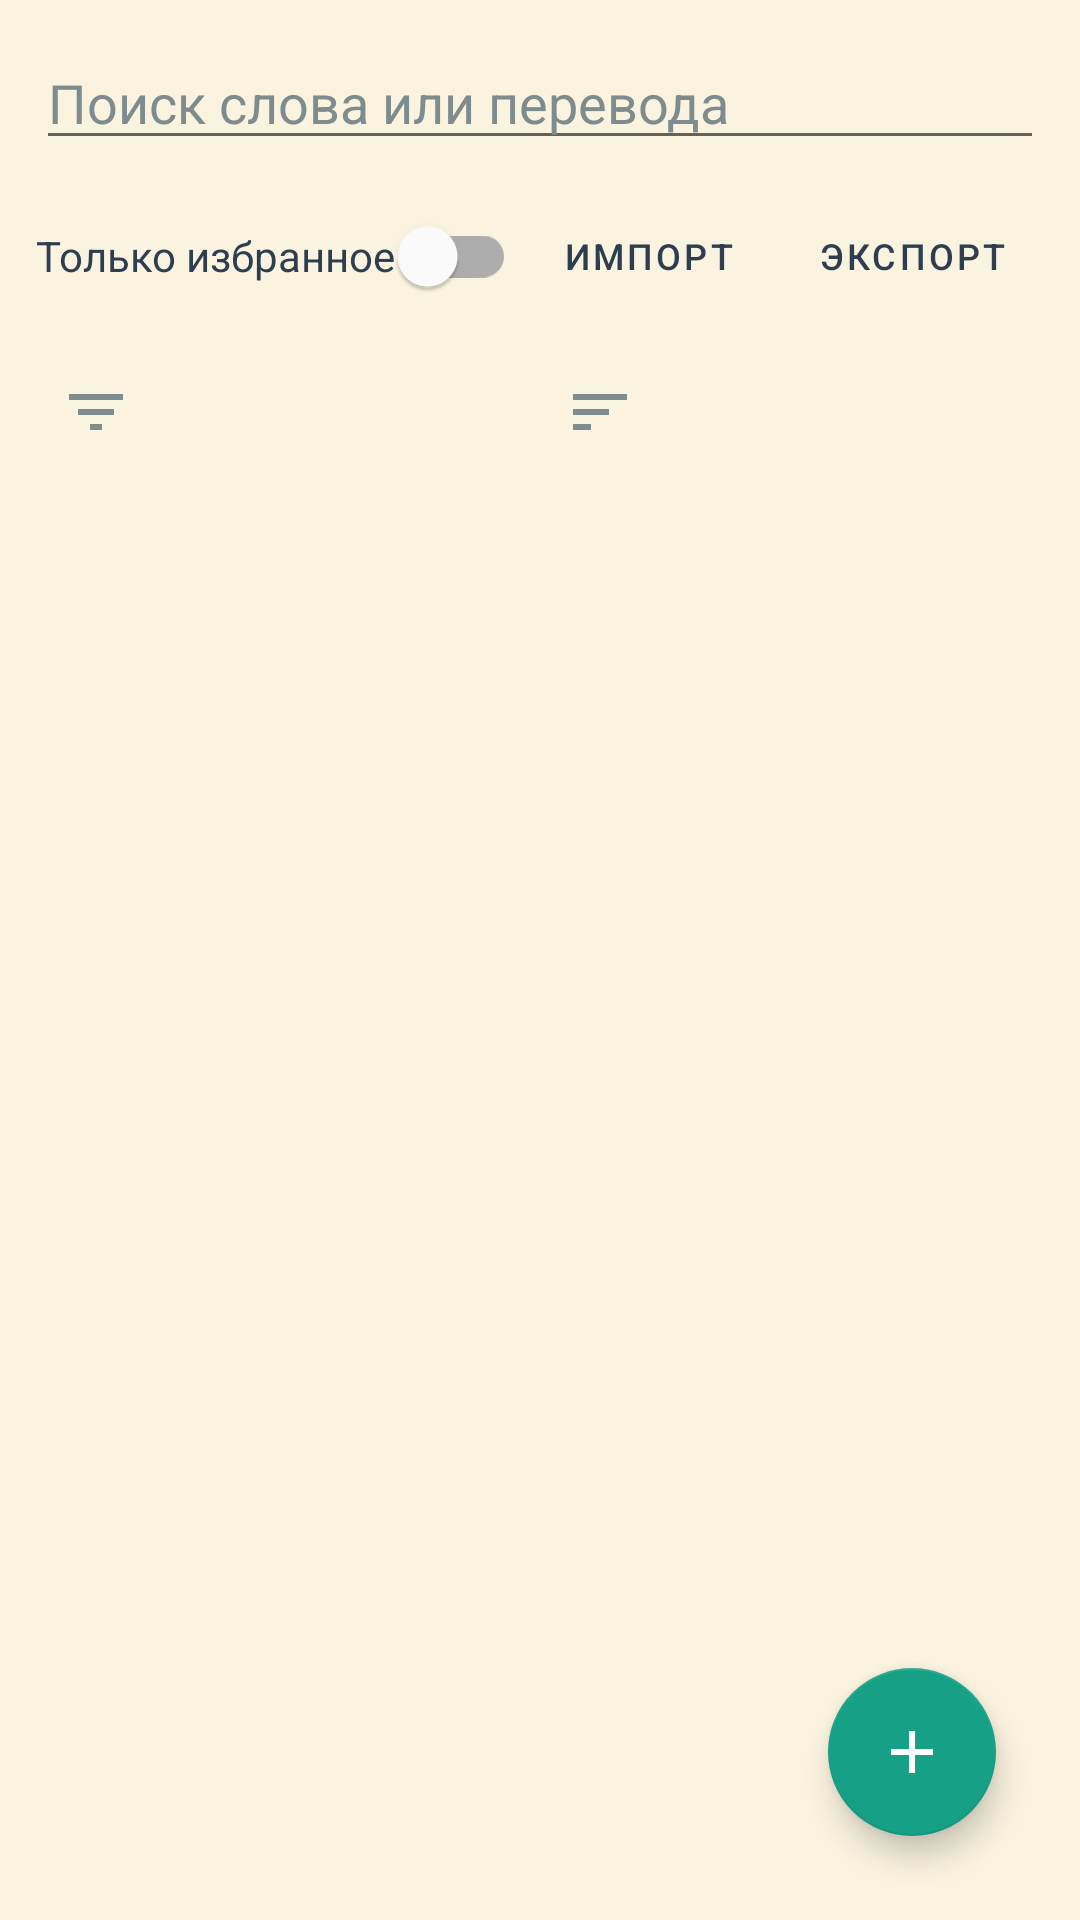

Icons on this 1080*1920 Android screen, each with the point to tap as point (x, y):
filter: point (96, 412)
sort: point (600, 412)
Добавить слово: point (912, 1752)
